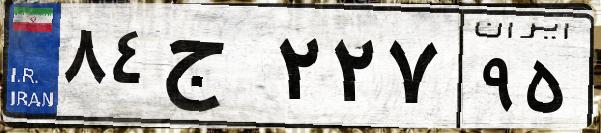2: (270, 28, 330, 110), (330, 28, 385, 110)
4: (110, 28, 158, 98)
5: (525, 38, 570, 115)
7: (385, 28, 445, 110)
8: (57, 26, 110, 100)
9: (475, 38, 525, 113)
ج: (158, 20, 270, 120)
